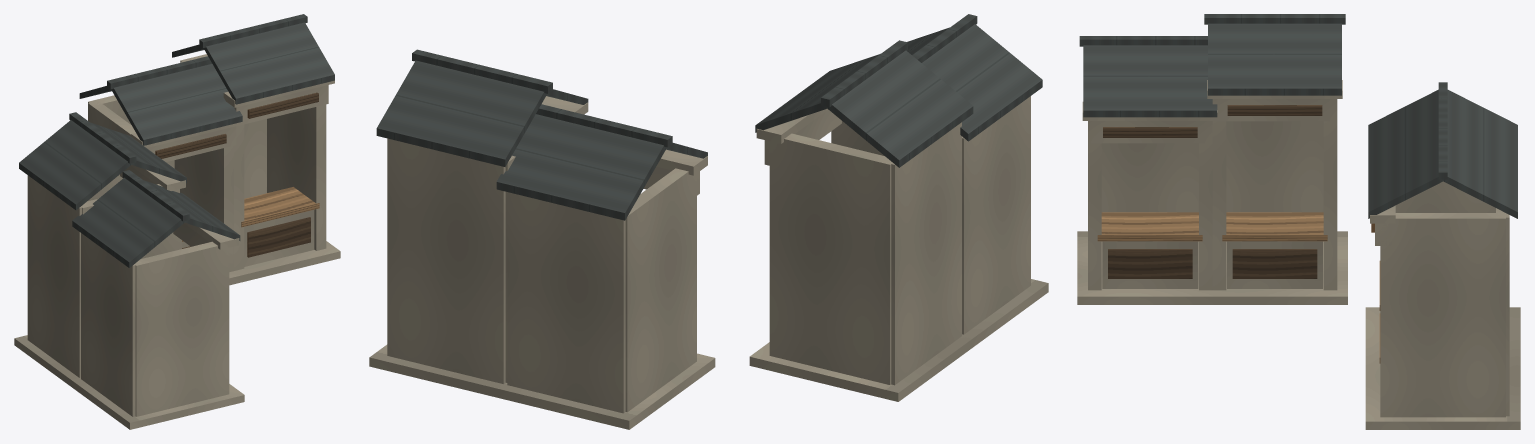
3 views of the same model, side by side, from view 1: azimuth 30°, elevation 25°; view 2: azimuth 150°, elevation 25°; view 3: azimuth 270°, elevation 25° (orthographic). The views are drawn at different scales.
Parts seen in each view (by area): view 1: douglas; view 2: douglas; view 3: douglas.
Part boxes in pixels (left/top/right/bottom): douglas: left=14, top=14, right=340, bottom=429; douglas: left=369, top=14, right=1048, bottom=429; douglas: left=1077, top=14, right=1520, bottom=429.
Bounding box in the file's own units: 3.99 × 2.5 × 3.92.
1 material, 1 textured.
